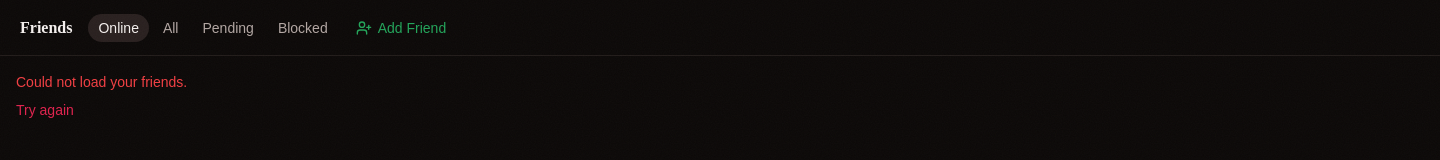
Test case: FriendsPage › recovers from a failed read when the retry is taken
The width and height of the screenshot is (1440, 160).
Click the button with aria-label "Try loading your friends again": (45, 110) [16, 100, 74, 120]
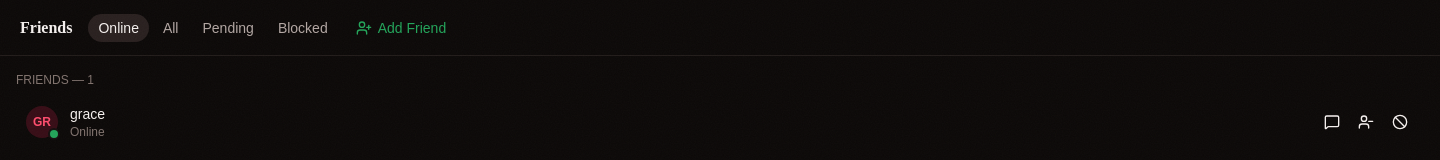
Check: the text "grace" is shown, box [70, 106, 105, 122]
